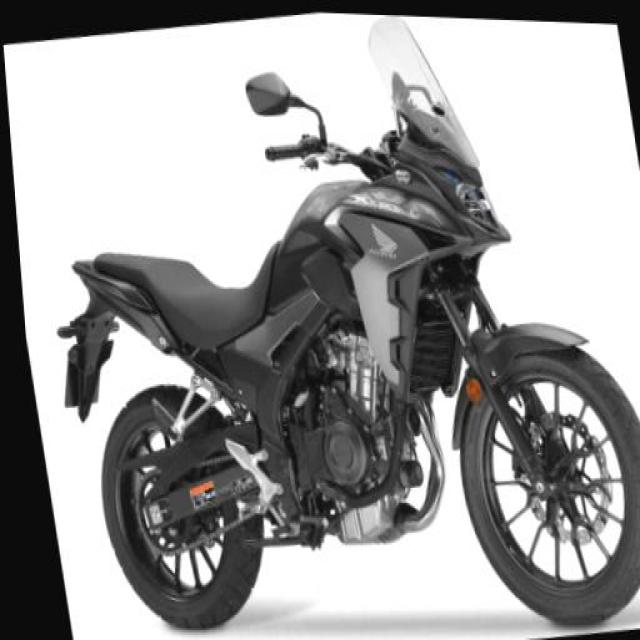CB500X: (25, 0, 640, 639)
